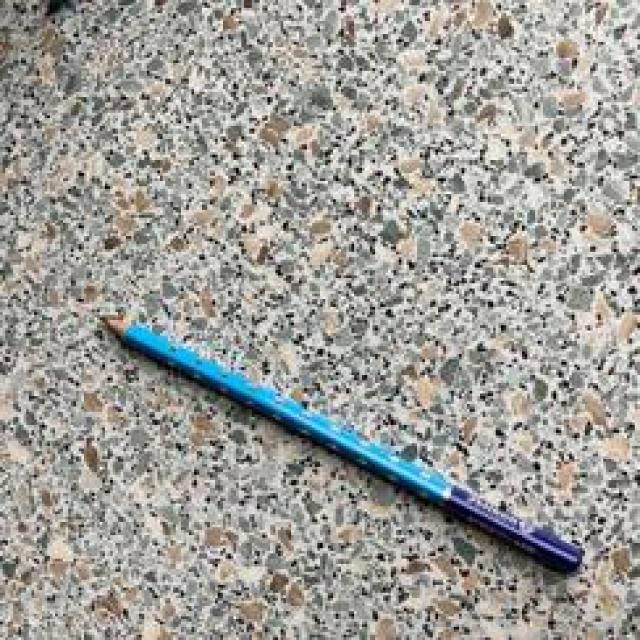pencil: (103, 314, 580, 574)
